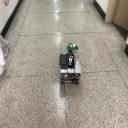cart: (59, 53, 82, 86)
